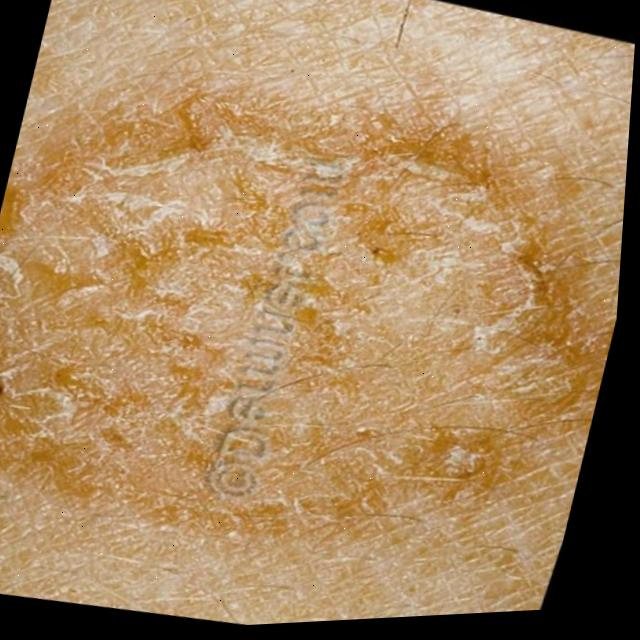Eczema: (0, 73, 579, 558)
